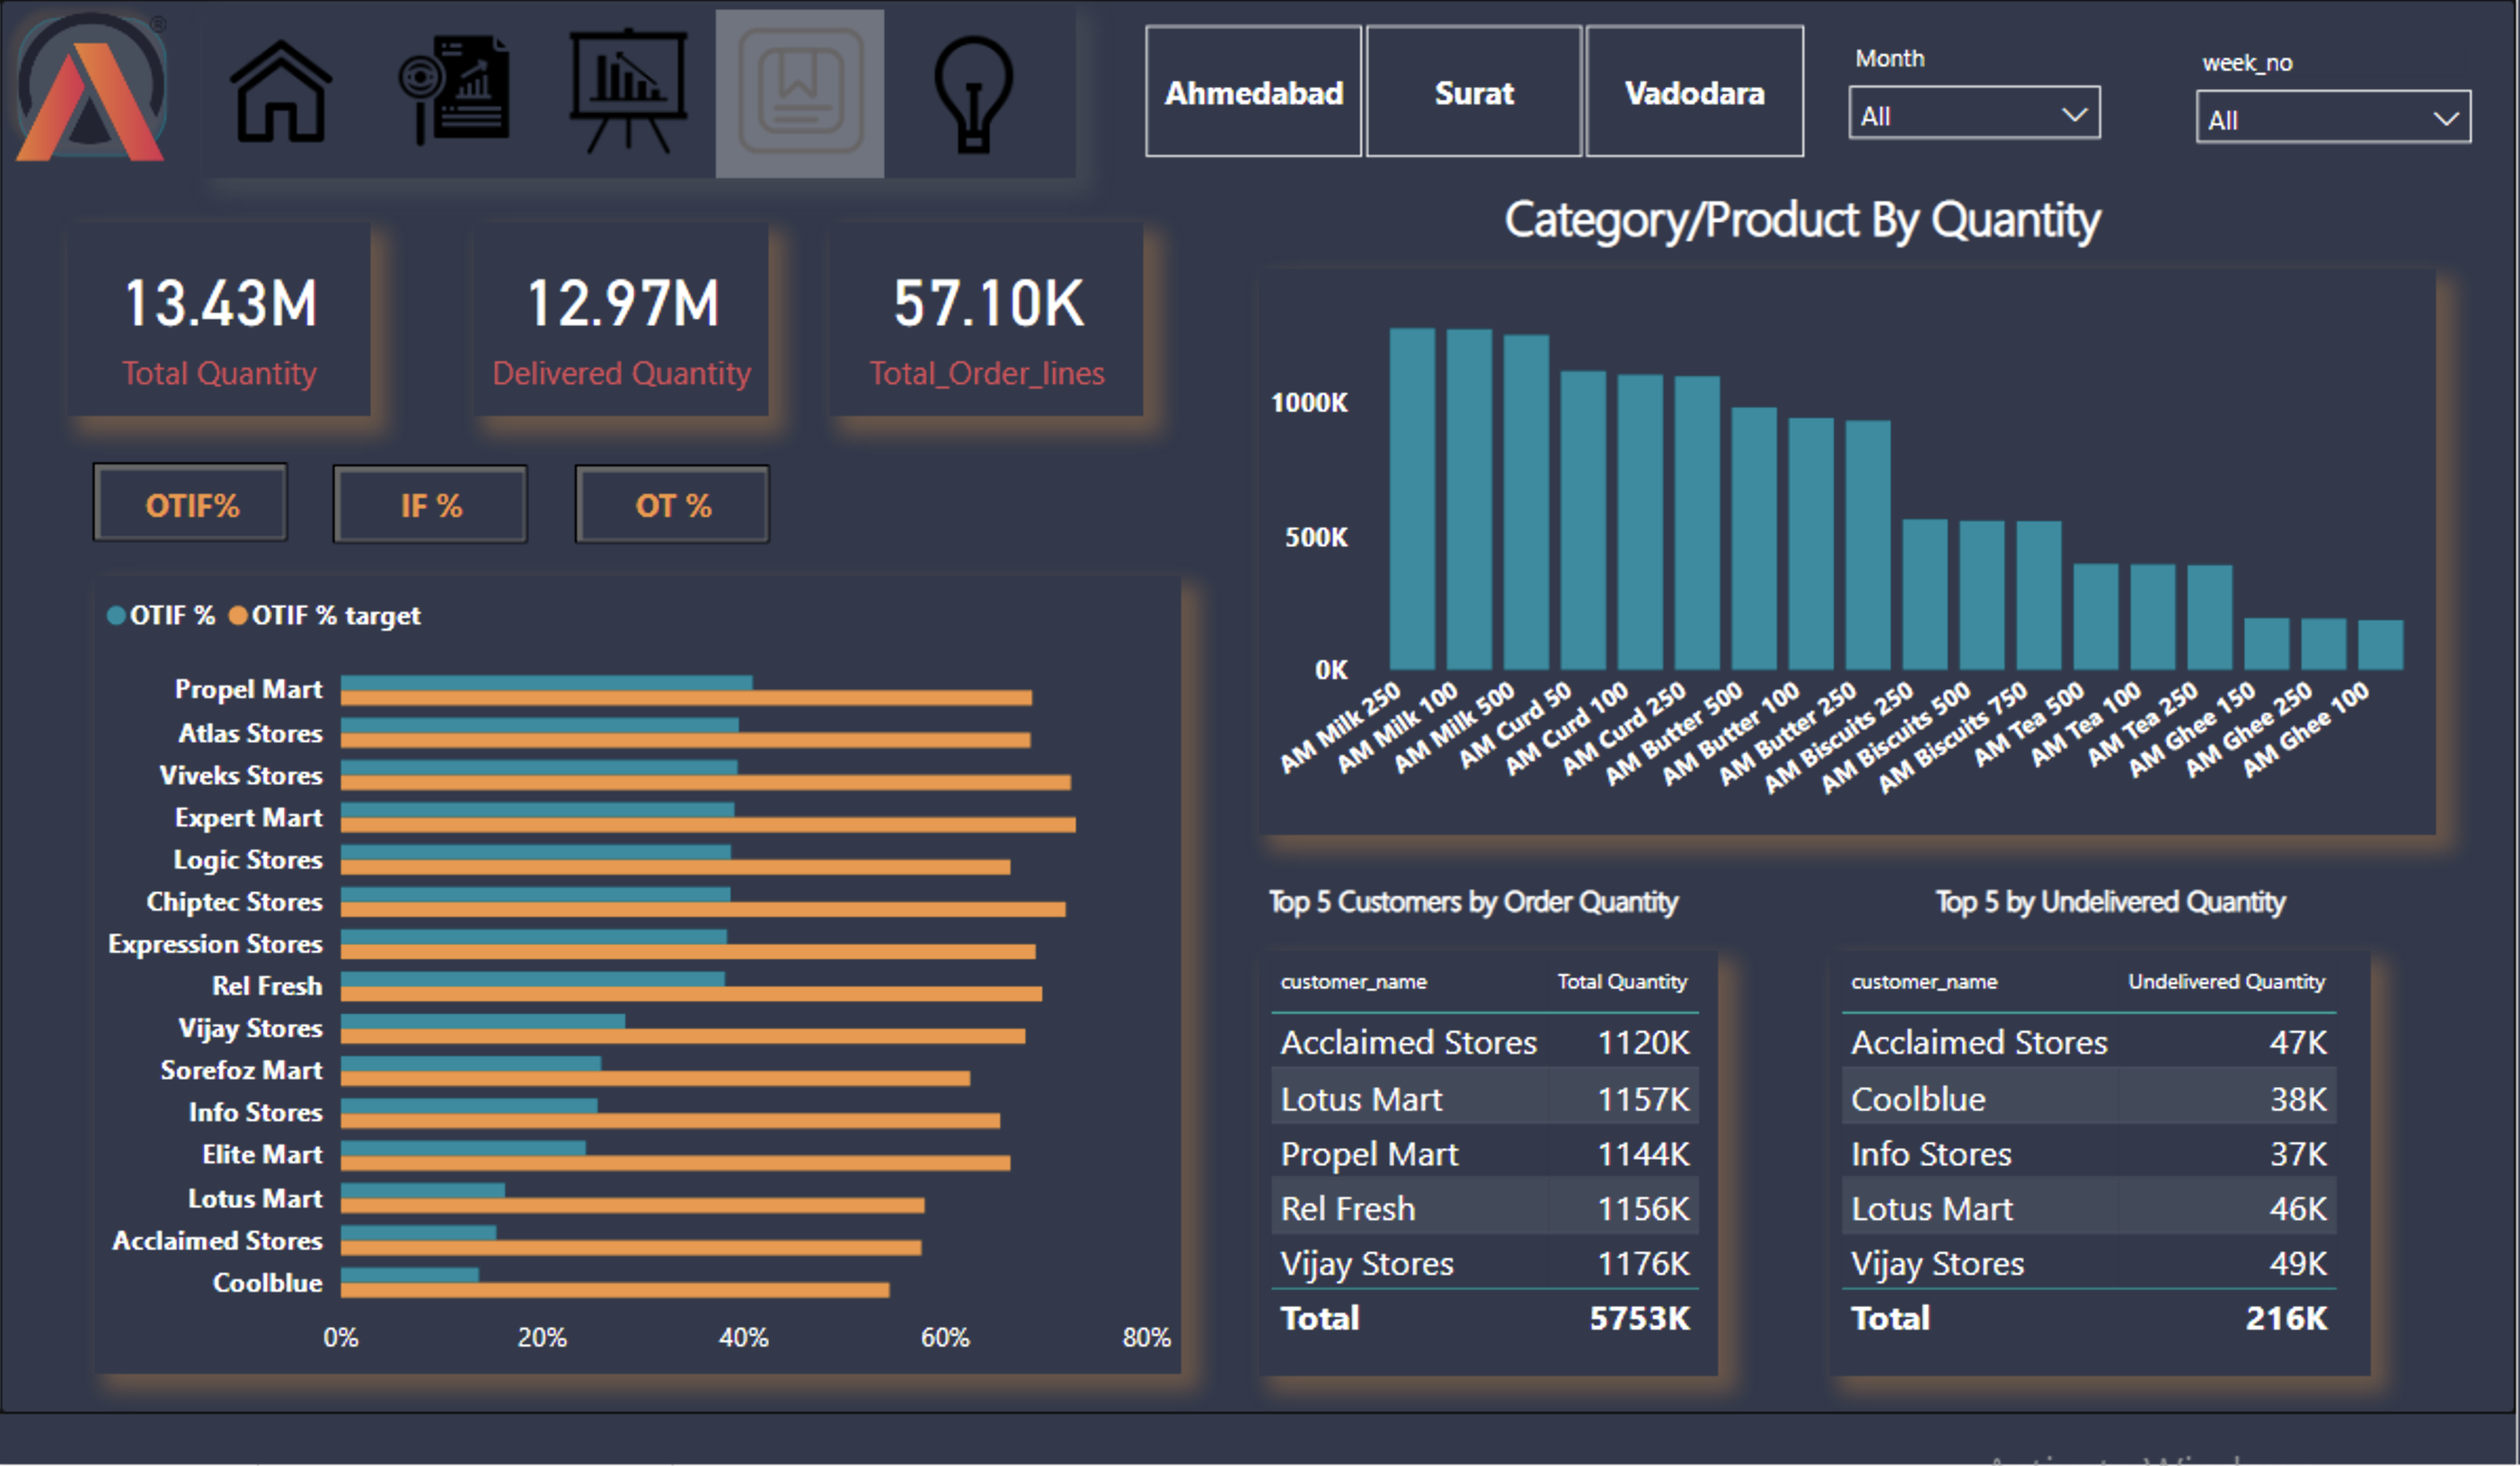

Layout of this report page (visuals, bound fields, positions):
{"tool":"powerbi","page":{"name":"Quantity  View","canvas":[1280,720],"ordinal":3},"visuals":[{"type":"slicer","fields":{"Values":["dim_date.Month"]},"box":[931.3,16.4,147.7,59.5],"z":0},{"type":"slicer","fields":{"Values":["dim_date.week_no"]},"box":[1107.7,18.5,160,57.4],"z":1000},{"type":"tableEx","fields":{"Values":["dim_customers.customer_name","DAX measures.Total Quantity"]},"box":[640.8,484,234.4,215.9],"z":2000},{"type":"tableEx","fields":{"Values":["dim_customers.customer_name","DAX measures.Undelivered Quantity"]},"box":[930.9,484,274.9,215.9],"z":3000},{"type":"slicer","fields":{"Values":["dim_customers.city"]},"box":[556.5,6.7,384.5,80.9],"z":4000},{"type":"clusteredColumnChart","fields":{"Y":["DAX measures.Total Quantity"],"Category":["dim_products.category","dim_products.product_name"]},"box":[640.8,136.6,598.7,288.4],"z":6000},{"type":"shape","box":[0,0,93.7,88.9],"z":7000},{"type":"image","box":[0,0,94.4,88.2],"z":8000},{"type":"textbox","box":[629,89.4,576.8,47.2],"z":9000},{"type":"actionButton","title":"OTIF % Button","box":[47.2,236.1,99.5,40.5],"z":11000},{"type":"actionButton","title":"IF% Button","box":[169.7,236.9,98.7,39.8],"z":12000},{"type":"actionButton","title":"OT% button","box":[292.6,236.9,98.7,39.8],"z":13000},{"type":"card","fields":{"Values":["DAX measures.Total Quantity"]},"box":[33.9,113.1,153.5,98.6],"z":15000},{"type":"card","fields":{"Values":["DAX measures.Delivered Quantity"]},"box":[240.8,113.1,150.3,98.6],"z":16000},{"type":"textbox","box":[640.8,443.5,234.4,40.5],"z":17000},{"type":"textbox","box":[941,443.5,264.8,40.5],"z":18000},{"type":"shape","title":"BOX","box":[102.9,1.7,443.5,89.4],"z":18500},{"type":"image","box":[106.2,10.1,74,74.2],"z":19000},{"type":"image","box":[194.4,10.1,74,74.2],"z":20000},{"type":"image","box":[282.5,10.1,74,74.2],"z":21000},{"type":"image","box":[370.6,10.1,74,74.2],"z":22000},{"type":"image","box":[458.7,10.1,74,74.2],"z":23000},{"type":"shape","box":[364.3,5.1,86,86],"z":25000},{"type":"clusteredBarChart","title":"OTIF Target","fields":{"Category":["dim_customers.customer_name"],"Y":["DAX measures.OTIF %","DAX measures.OTIF % target"]},"box":[48.2,293.3,553.1,406.4],"z":26000},{"type":"card","fields":{"Values":["DAX measures.Total_Order_lines"]},"box":[421.8,113.1,160,98.6],"z":27000}]}

Visuals, with their boxes on the page's 1280x720 design canvas (x1, y1, x2, y2). These are canvas units, not pixel positions in the 2520x1466 screenshot, which may show the page scaled, cropped or inside an application window:
slicer - dim_date.Month: 931/16/1079/76
slicer - dim_date.week_no: 1108/18/1268/76
tableEx - dim_customers.customer_name x DAX measures.Total Quantity: 641/484/875/700
tableEx - dim_customers.customer_name x DAX measures.Undelivered Quantity: 931/484/1206/700
slicer - dim_customers.city: 556/7/941/88
clusteredColumnChart - DAX measures.Total Quantity x dim_products.category: 641/137/1240/425
shape: 0/0/94/89
image: 0/0/94/88
textbox: 629/89/1206/137
"OTIF % Button" actionButton: 47/236/147/277
"IF% Button" actionButton: 170/237/268/277
"OT% button" actionButton: 293/237/391/277
card - DAX measures.Total Quantity: 34/113/187/212
card - DAX measures.Delivered Quantity: 241/113/391/212
textbox: 641/444/875/484
textbox: 941/444/1206/484
"BOX" shape: 103/2/546/91
image: 106/10/180/84
image: 194/10/268/84
image: 282/10/356/84
image: 371/10/445/84
image: 459/10/533/84
shape: 364/5/450/91
"OTIF Target" clusteredBarChart: 48/293/601/700
card - DAX measures.Total_Order_lines: 422/113/582/212
